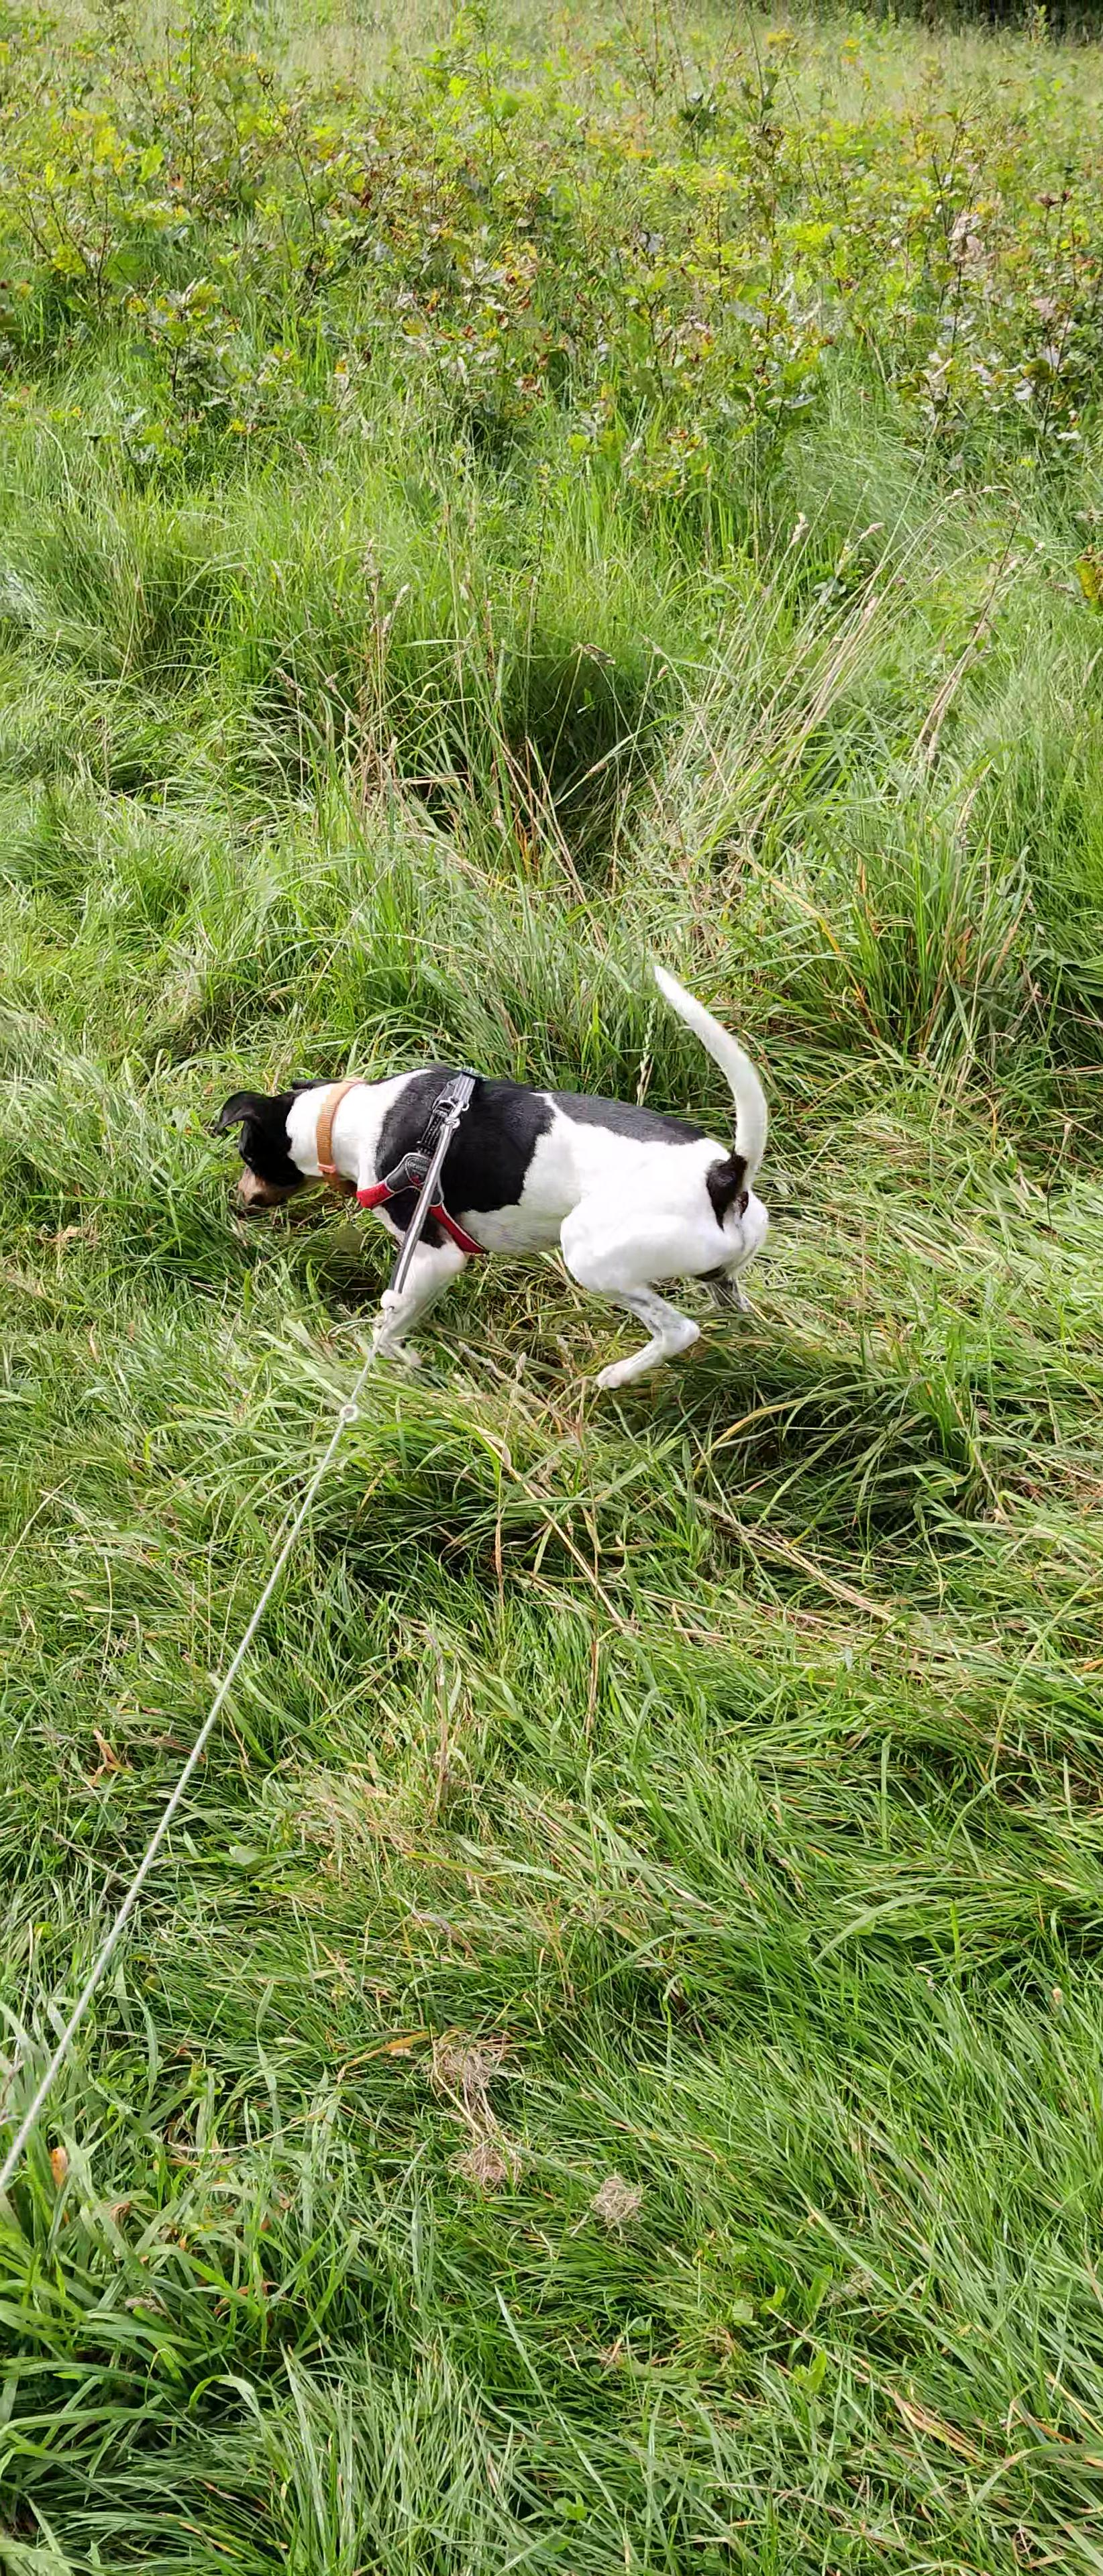Dog: (201, 950, 784, 1403)
